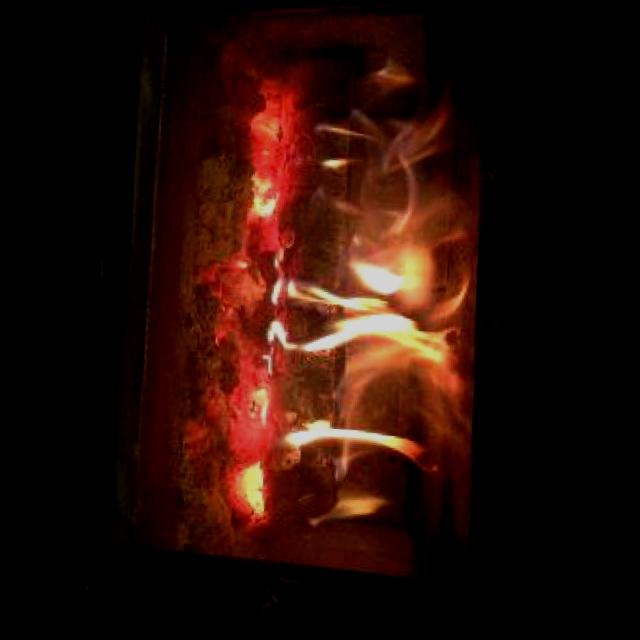Fire: (166, 50, 511, 559)
